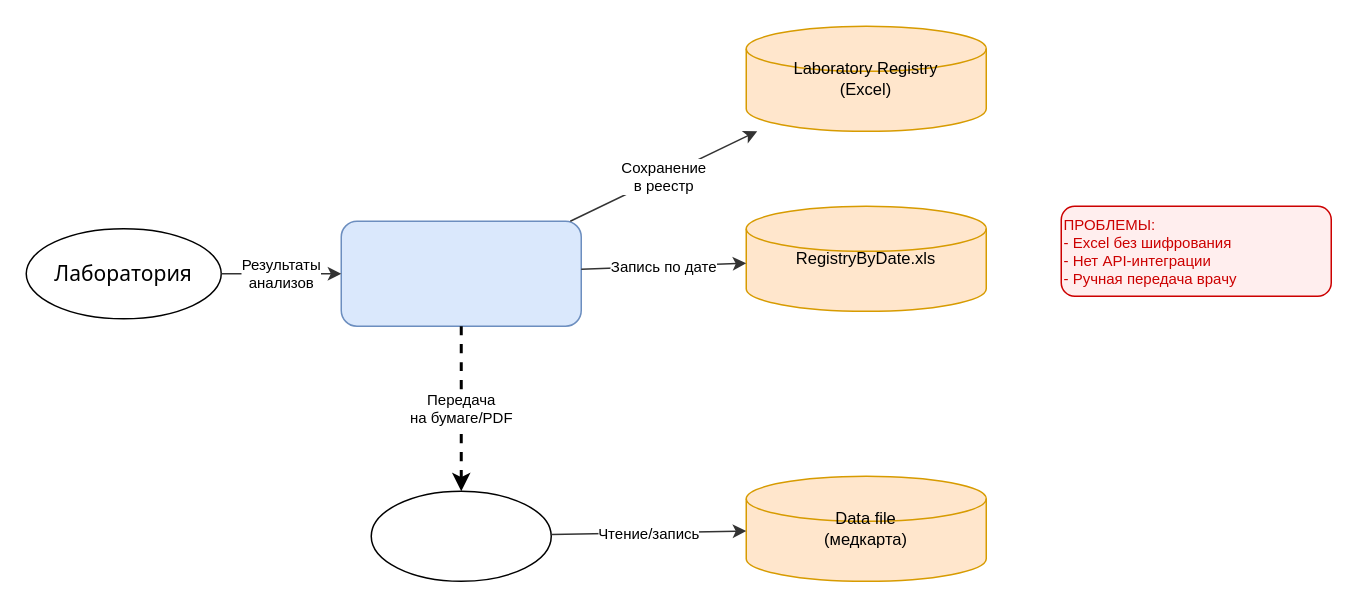
This 1358x608 diagram has some shape labels left out. Each missing label, with the centre of its shape:
"3.0 Приём анализов от лаборатории" goes at (460,273).
"Врач" goes at (460,535).
